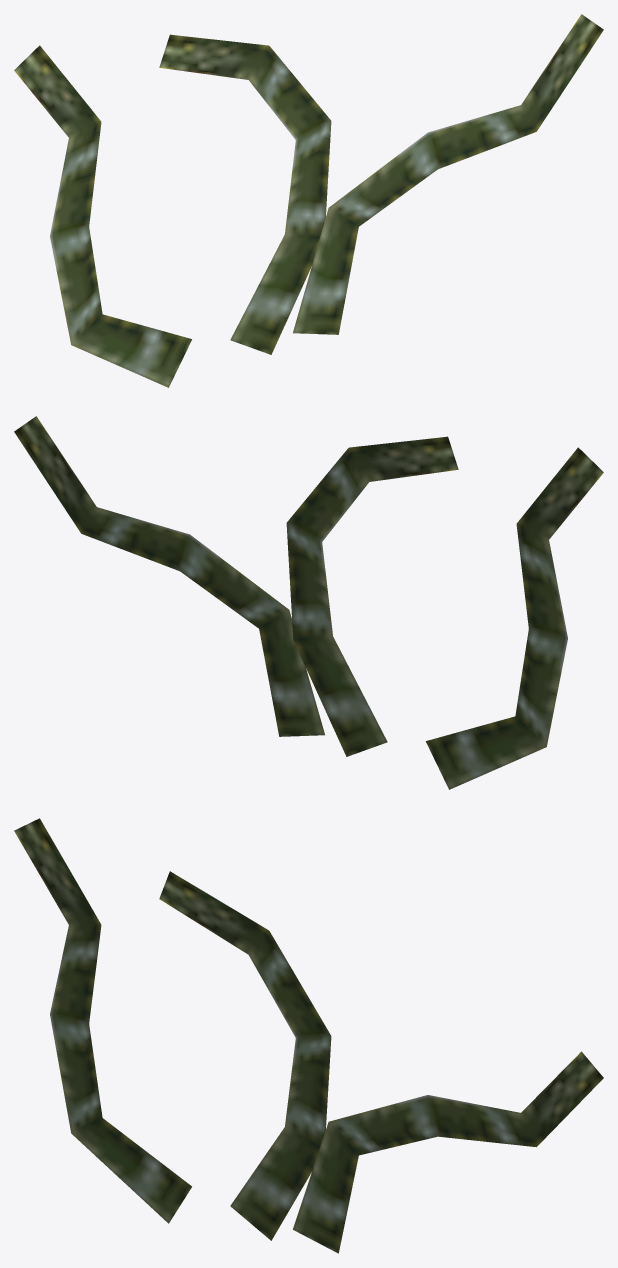
Rendered from special_g_medusa_snakesa_idle.glb.
3 views of the same model, one above another, from view 1: azimuth 30°, elevation 25°; view 2: azimuth 150°, elevation 25°; view 3: azimuth 330°, elevation 25° (orthographic).
Parts seen in each view (by area): view 1: MeshRoot; view 2: MeshRoot; view 3: MeshRoot.
Part boxes in pixels (x1,y1,x2,y2): MeshRoot: (14, 14, 603, 387); MeshRoot: (14, 416, 603, 789); MeshRoot: (14, 818, 603, 1253).
Bounding box in the file's own units: 1.03 × 0.6226 × 8.89e-08.
1 material, 1 textured.
